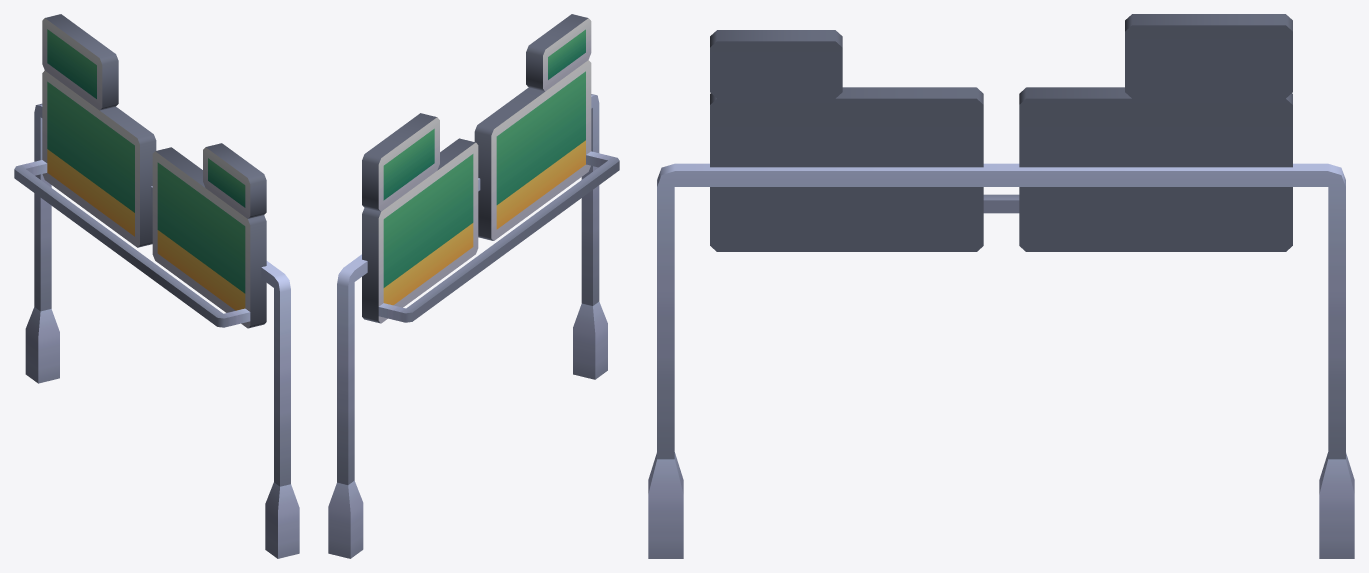
File: sign-highway-detailed.glb
The picture shows the model from 3 angles, left to right: view 1: azimuth 30°, elevation 25°; view 2: azimuth 150°, elevation 25°; view 3: azimuth 270°, elevation 25°; orthographic projection. The views are drawn at different scales.
Parts seen in each view (by area): view 1: sign-highway-detailed; view 2: sign-highway-detailed; view 3: sign-highway-detailed.
Boxes of the visible parts, x1,y1,x2,y2 form: sign-highway-detailed: (14,14,299,558); sign-highway-detailed: (328,14,619,558); sign-highway-detailed: (648,14,1354,558).
Size of the model in its own units: 0.1323 by 0.8221 by 1.
1 material, 1 textured.
